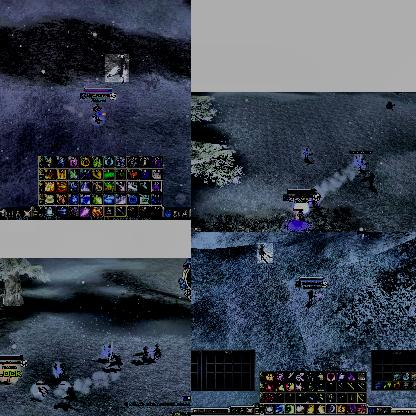caliana: (105, 54, 129, 82), (62, 387, 83, 408), (53, 362, 69, 384), (257, 243, 273, 263), (360, 172, 376, 190), (102, 344, 115, 364), (133, 348, 149, 364), (150, 344, 162, 362), (354, 156, 368, 170), (110, 354, 124, 368), (302, 146, 312, 162), (0, 294, 3, 309)
